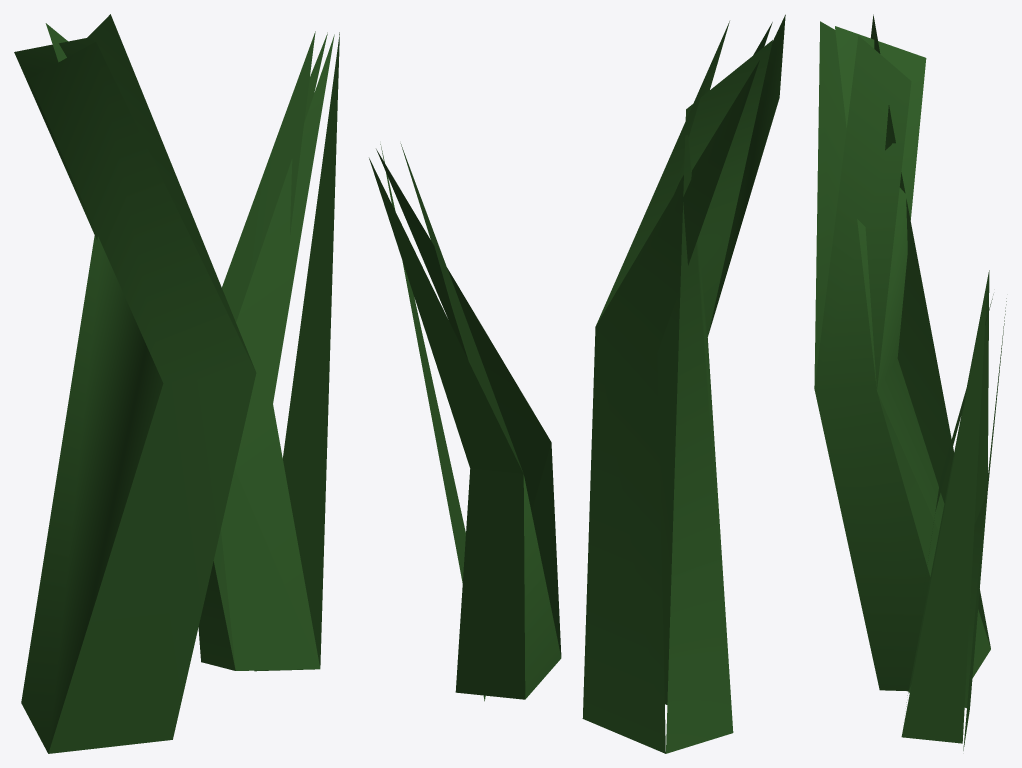
Rendered from Grass1_med.glb.
3 views of the same model, side by side, from view 1: azimuth 30°, elevation 25°; view 2: azimuth 150°, elevation 25°; view 3: azimuth 270°, elevation 25° (orthographic). The views are drawn at different scales.
Parts seen in each view (by area): view 1: Grass_004; view 2: Grass_004; view 3: Grass_004.
Part boxes in pixels (x1,y1,x2,y2): Grass_004: (14,14,339,753); Grass_004: (369,14,785,753); Grass_004: (814,14,1006,750).
Bounding box in the file's own units: 0.1786 × 0.3425 × 0.0959.
